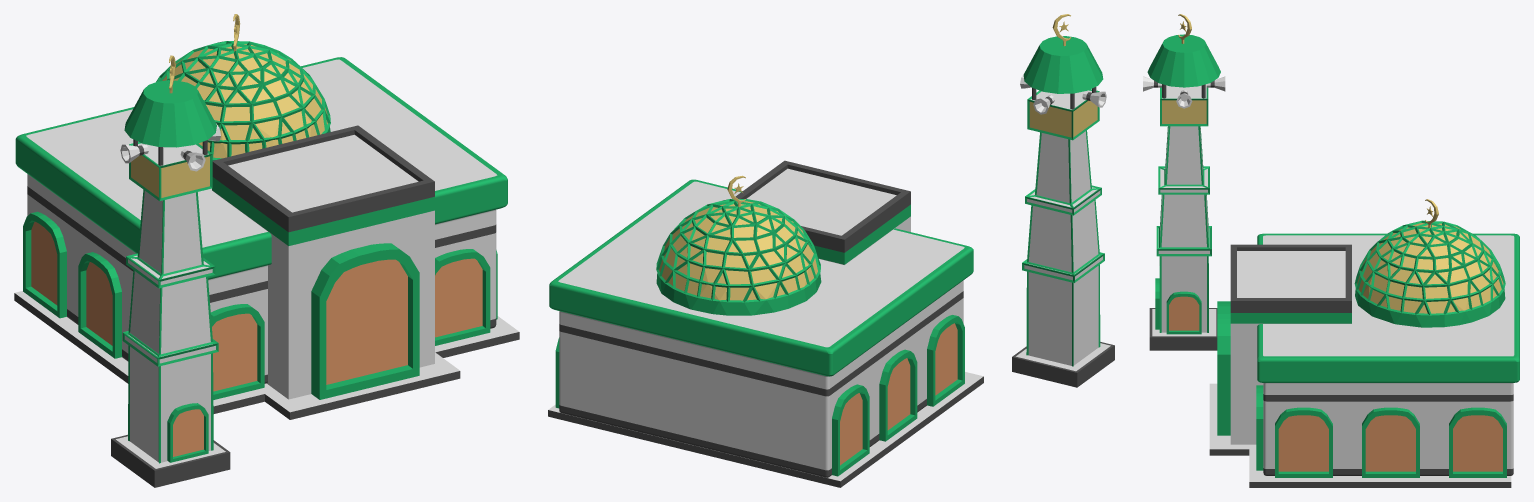
The model's file is masjid.gltf.
3 renders of one model, left to right at view 1: azimuth 30°, elevation 25°; view 2: azimuth 150°, elevation 25°; view 3: azimuth 270°, elevation 25°, orthographic. The views are drawn at different scales.
Visible parts, largest first — view 1: Cube.001, Cube, Cube.007, Cube.002, Cube.004, Cube.003, Cube.011, Sphere.001, Sphere, Cylinder, Cube.008, Cube.009; view 2: Cube.001, Cube.007, Sphere, Cube, Cube.003, Sphere.001, Cube.011, Cylinder, Cube.008; view 3: Cube.001, Cube, Cube.003, Cube.007, Sphere, Sphere.001, Cube.011, Cylinder, Cube.008, Cube.002, Cube.010, Cube.004.
Boxes of the visible parts, box(x1,y1,x2,y2) form: Cube.001: box(15, 57, 507, 383); Cube: box(212, 125, 434, 399); Cube.007: box(111, 143, 230, 487); Cube.002: box(311, 243, 419, 399); Cube.004: box(210, 249, 490, 399); Cube.003: box(23, 211, 497, 358); Cube.011: box(14, 291, 519, 419); Sphere.001: box(156, 41, 330, 159); Sphere: box(162, 44, 330, 160); Cylinder: box(124, 80, 216, 147); Cube.008: box(122, 142, 218, 463); Cube.009: box(167, 403, 208, 462); Cube.001: box(549, 179, 973, 477); Cube.007: box(1012, 90, 1114, 387); Sphere: box(656, 201, 821, 315); Cube: box(735, 160, 910, 264); Cube.003: box(555, 315, 964, 476); Sphere.001: box(656, 199, 820, 302); Cube.011: box(548, 372, 983, 487); Cylinder: box(1023, 36, 1103, 93); Cube.008: box(1022, 89, 1104, 366); Cube.001: box(1257, 233, 1519, 475); Cube: box(1230, 244, 1351, 444); Cube.003: box(1275, 407, 1506, 477); Cube.007: box(1149, 84, 1217, 350); Sphere: box(1355, 223, 1505, 327); Sphere.001: box(1354, 220, 1505, 315); Cube.011: box(1209, 383, 1511, 487); Cylinder: box(1147, 34, 1220, 87); Cube.008: box(1156, 87, 1211, 332); Cube.002: box(1217, 301, 1230, 435); Cube.010: box(1166, 291, 1201, 334); Cube.004: box(1256, 385, 1263, 470).
Size of the model in its own units: 5.95 by 5.34 by 5.65.
